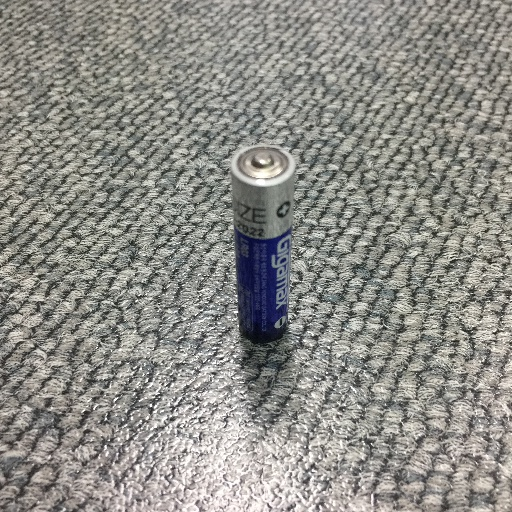Battery_0: (224, 132, 303, 348)
